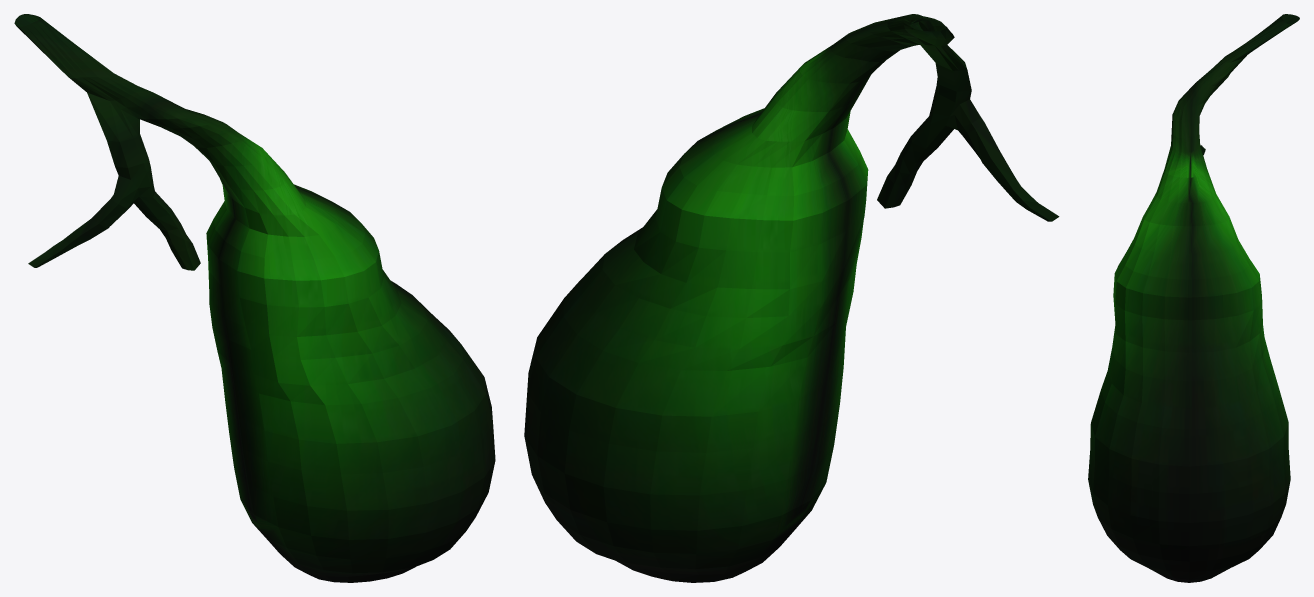
The model's file is tri01.obj.
3 views of the same model, side by side, from view 1: azimuth 30°, elevation 25°; view 2: azimuth 150°, elevation 25°; view 3: azimuth 270°, elevation 25° (orthographic). The views are drawn at different scales.
Visible parts, largest first — view 1: polySurface2; view 2: polySurface2; view 3: polySurface2.
Part boxes in pixels (x1,y1,x2,y2): polySurface2: (14,14,495,582); polySurface2: (524,14,1059,582); polySurface2: (1088,14,1299,582).
Bounding box in the file's own units: 1.44 × 1.79 × 0.7628.
1 material, 1 textured.
